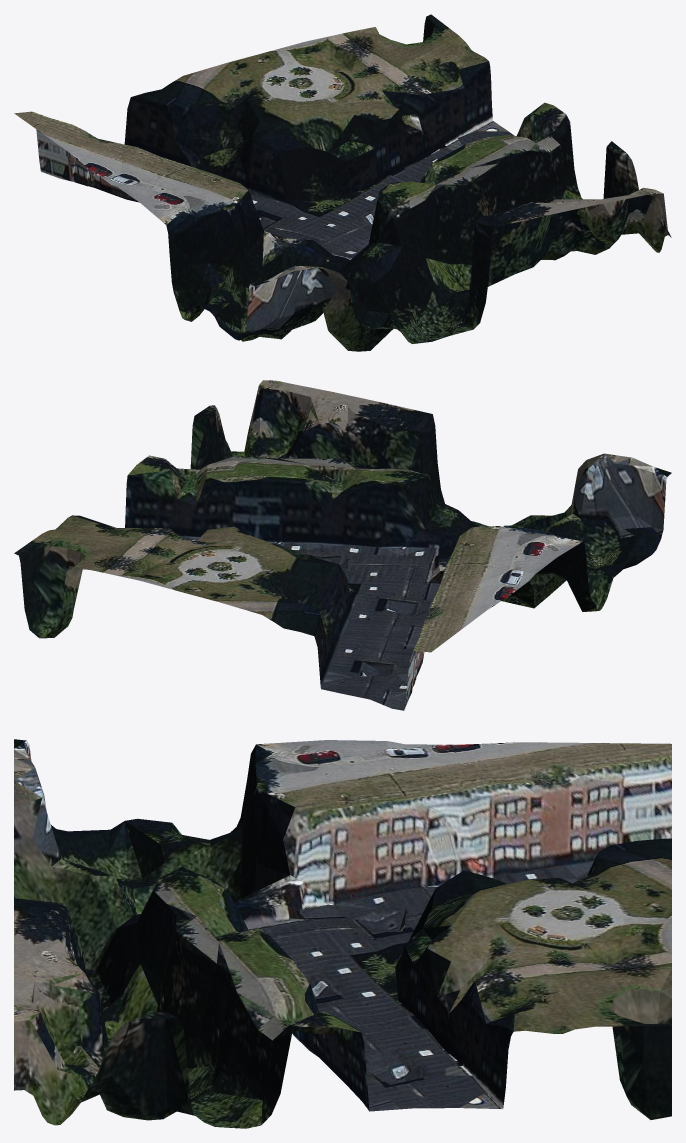
File: map_15_8176_13789.dae
3 renders of one model, top to bottom at view 1: azimuth 30°, elevation 25°; view 2: azimuth 150°, elevation 25°; view 3: azimuth 270°, elevation 25°, orthographic. The views are drawn at different scales.
Parts seen in each view (by area): view 1: Ter0; view 2: Ter0; view 3: Ter0.
Boxes of the visible parts, bbox=[...] form: Ter0: bbox=[14, 14, 671, 351]; Ter0: bbox=[14, 380, 671, 710]; Ter0: bbox=[14, 739, 671, 1128].
Size of the model in its own units: 63.88 by 63.88 by 17.5.
4 materials, 4 textured.
